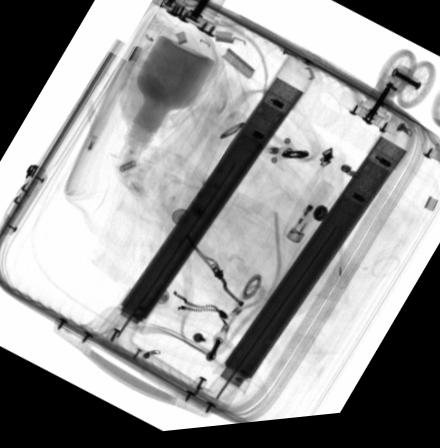Lighter: (283, 185, 335, 249)
